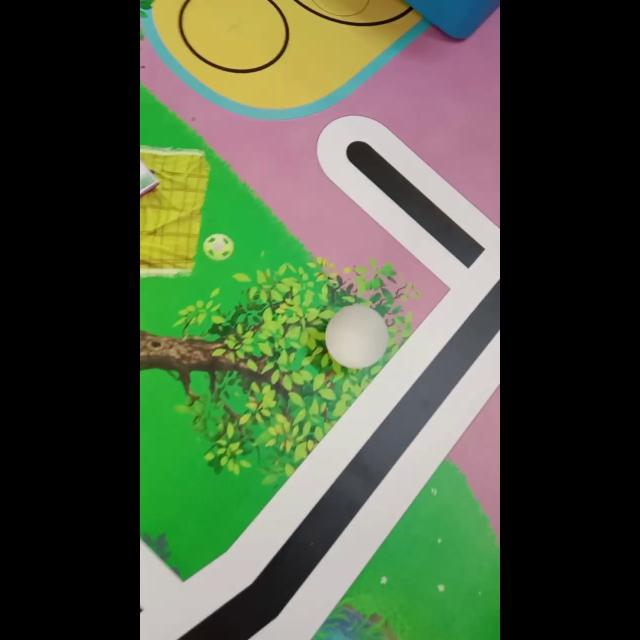white ball: (323, 302, 389, 370)
